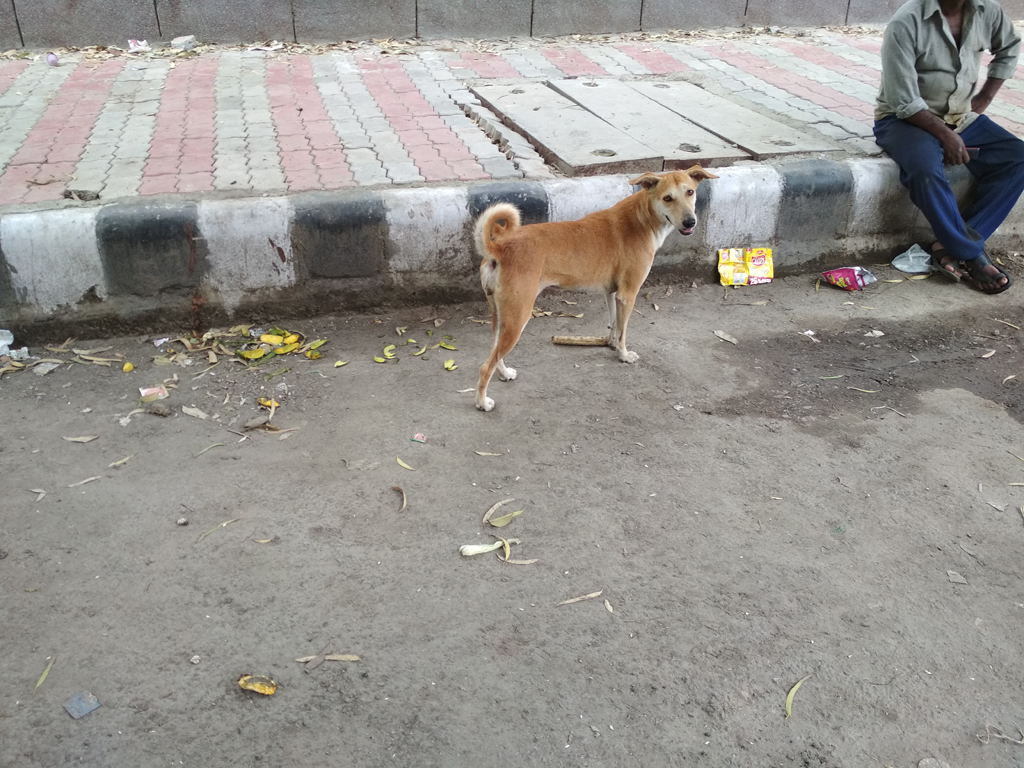dog: (470, 163, 720, 412)
